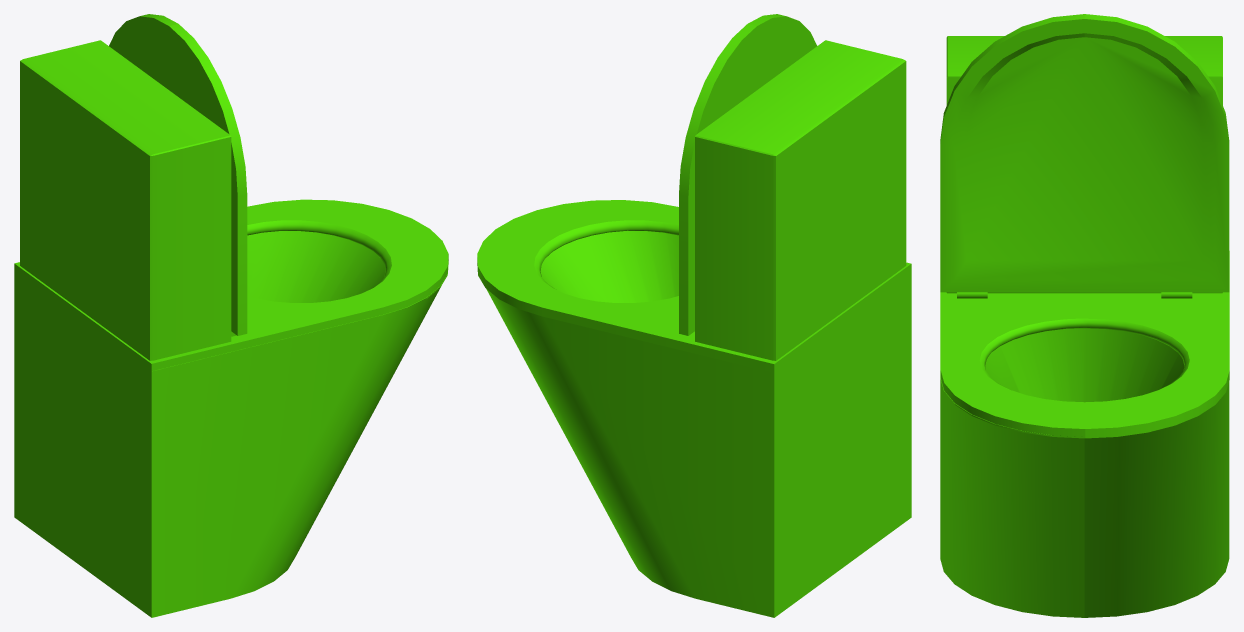
The model's file is Toiled.fbx.
3 renders of one model, left to right at view 1: azimuth 30°, elevation 25°; view 2: azimuth 150°, elevation 25°; view 3: azimuth 270°, elevation 25°, orthographic. The views are drawn at different scales.
Visible parts, largest first — view 1: Cube; view 2: Cube; view 3: Cube.
Part boxes in pixels (x1,y1,x2,y2): Cube: [14, 14, 448, 617]; Cube: [477, 14, 911, 617]; Cube: [940, 14, 1229, 617].
Bounding box in the file's own units: 292 × 418 × 200.
